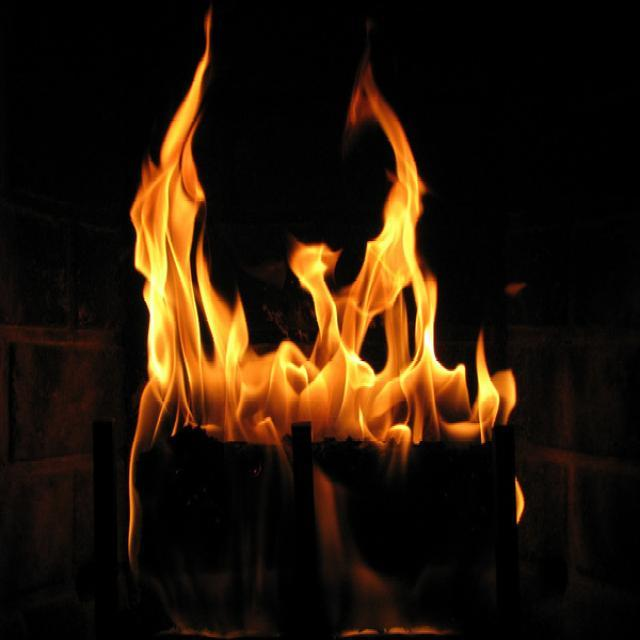Fire: (121, 5, 525, 605)
